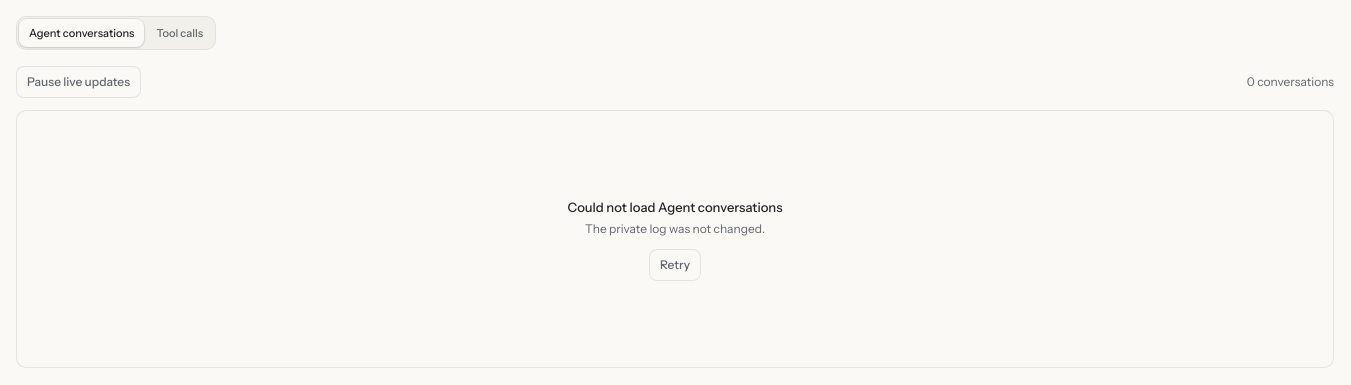
it: LogsPage Agent conversations › offers a retry when the read-only projection is unavailable
This screenshot has width=1351, height=385.
Expected: the text "Could not load Agent conversations" is shown, [568, 197, 782, 217]
Click the button "Retry". click: (675, 265)
box: [649, 249, 701, 281]
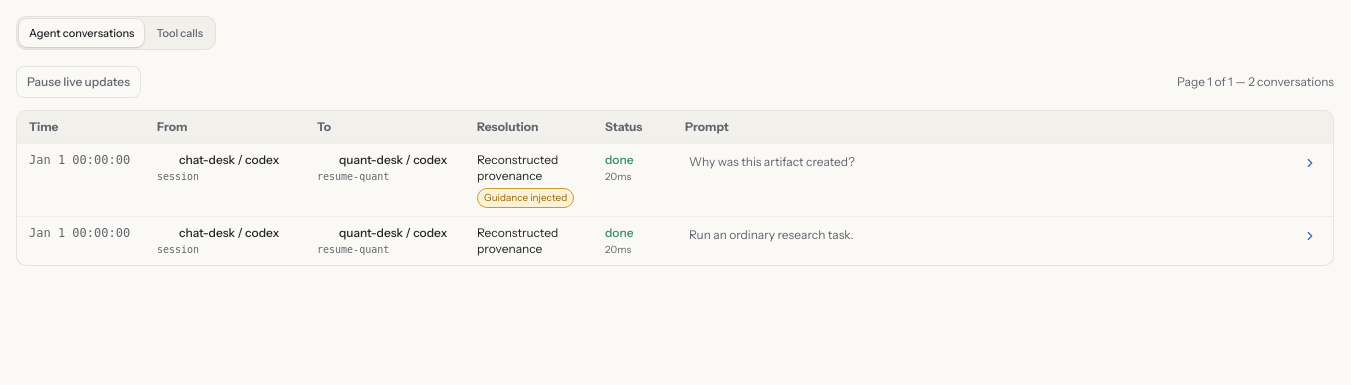
Now the text "Page 1 of 1 — 2 conversations" is shown, box [1177, 74, 1334, 90]
